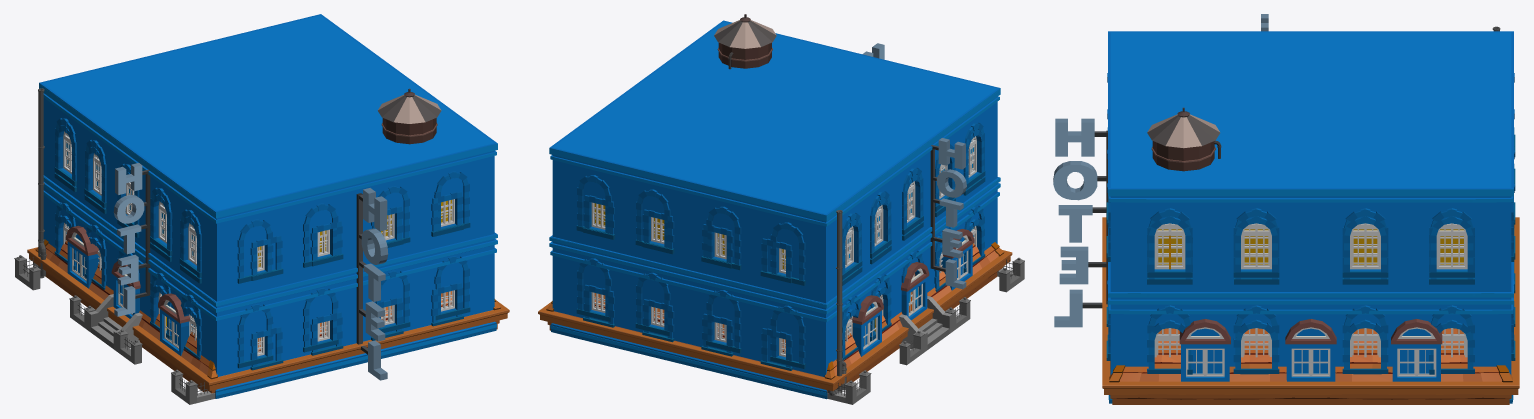
3 renders of one model, left to right at view 1: azimuth 30°, elevation 25°; view 2: azimuth 150°, elevation 25°; view 3: azimuth 270°, elevation 25°, orthographic. The views are drawn at different scales.
Parts seen in each view (by area): view 1: baseBlue.002, baseBlue.001, blueRooftop.001, waterTank, mid3window.003, baseBlue.003; view 2: baseBlue.002, baseBlue.001, blueRooftop.001, waterTank, baseBlue.003, mid3window.003; view 3: baseBlue.002, blueRooftop.001, baseBlue.001, waterTank.
Boxes of the visible parts, x1=… form: baseBlue.002: x1=39, y1=14, x2=497, y2=395; baseBlue.001: x1=14, y1=84, x2=497, y2=404; blueRooftop.001: x1=27, y1=225, x2=509, y2=393; waterTank: x1=377, y1=88, x2=441, y2=144; mid3window.003: x1=38, y1=89, x2=44, y2=276; baseBlue.003: x1=38, y1=88, x2=46, y2=276; baseBlue.002: x1=549, y1=20, x2=1000, y2=395; baseBlue.001: x1=549, y1=89, x2=1024, y2=404; blueRooftop.001: x1=538, y1=229, x2=1012, y2=393; waterTank: x1=714, y1=14, x2=776, y2=69; baseBlue.003: x1=836, y1=210, x2=846, y2=390; mid3window.003: x1=836, y1=211, x2=842, y2=391; baseBlue.002: x1=1053, y1=31, x2=1515, y2=399; blueRooftop.001: x1=1102, y1=217, x2=1519, y2=404; baseBlue.001: x1=1107, y1=14, x2=1514, y2=403; waterTank: x1=1147, y1=107, x2=1221, y2=171.
Size of the model in its own units: 0.903 by 0.6166 by 0.9837.
